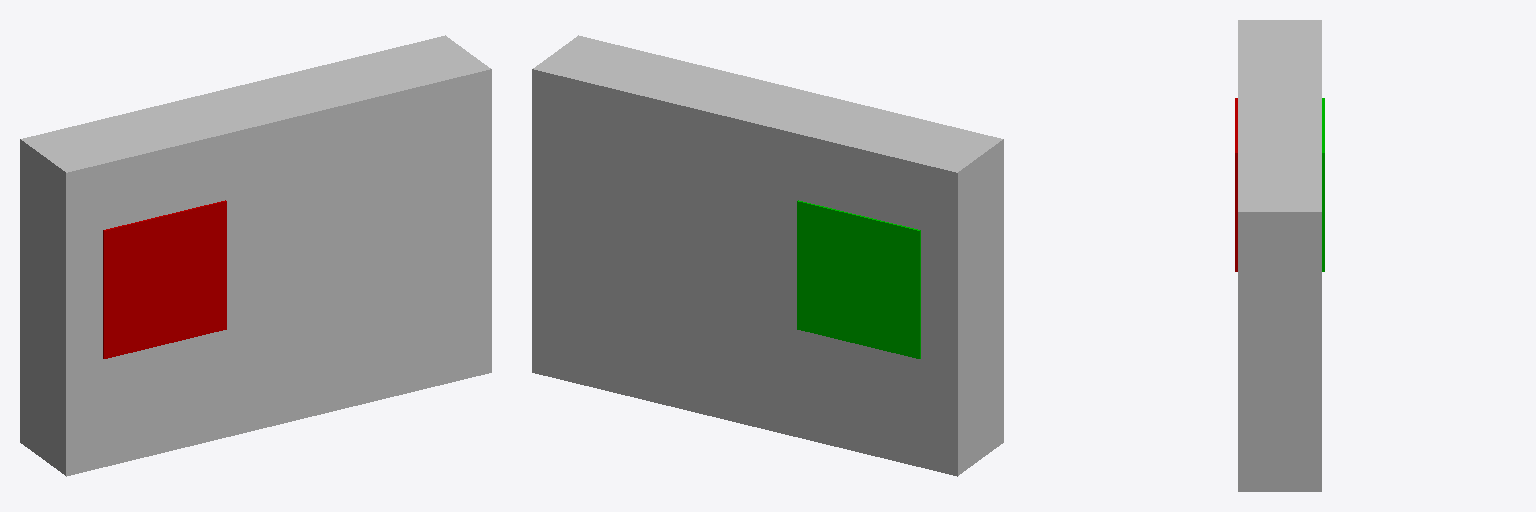
URDF robot description (cardboard_box):
<robot name="cardboard_box">
  <link name="base_link">
    <visual>
      <geometry>
        <box size="0.208 0.039 0.142"/>
      </geometry>
      <material name="white">
        <color rgba="0.8 0.8 0.8 1"/>
      </material>
    </visual>
    <collision>
      <geometry>
        <box size="0.208 0.039 0.142"/>
      </geometry>
    </collision>
    <inertial>
      <!--TODO: The object has not been weighed.-->
      <mass value="0.2"/>
      <inertia ixx="0.1"  ixy="0"  ixz="0" iyy="0.1" iyz="0" izz="0.1" />
    </inertial>
  </link>
  <joint name="tag36_11_00000_joint" type="fixed">
    <parent link="base_link"/>
    <child  link="tag36_11_00000"/>
    <origin xyz="-0.056 -0.0195 0.01" />
  </joint>
  <joint name="tag36_11_00002_joint" type="fixed">
    <parent link="base_link"/>
    <child  link="tag36_11_00002"/>
    <origin xyz="-0.056  0.0195 0.01" rpy="1.5707963267948966 0 3.141592653589793" />
  </joint>
  <link name="tag36_11_00000">
    <visual>
      <geometry>
        <box size="0.06 0.002 0.06"/>
      </geometry>
      <material name="red">
        <color rgba="0.8 0 0 1"/>
      </material>
    </visual>
  </link>
  <link name="tag36_11_00002">
    <visual>
      <geometry>
        <box size="0.06 0.06 0.002"/>
      </geometry>
      <material name="green">
        <color rgba="0 0.8 0 1"/>
      </material>
    </visual>
  </link>
</robot>

--- Facts derived from the render (not from the file) ---
3 views of the same robot in one strip: view 1: azimuth 30°, elevation 25°; view 2: azimuth 150°, elevation 25°; view 3: azimuth 270°, elevation 25° (orthographic).
Robot: cardboard_box — 3 links, 2 joints (2 fixed); root link base_link; default pose: all joints at 0.
Visible links, largest first — view 1: base_link, tag36_11_00000; view 2: base_link, tag36_11_00002; view 3: base_link.
Boxes of the visible links, left/top/right/bottom form: base_link: left=20, top=35, right=491, bottom=476; tag36_11_00000: left=103, top=200, right=226, bottom=358; base_link: left=532, top=35, right=1003, bottom=476; tag36_11_00002: left=797, top=200, right=920, bottom=358; base_link: left=1238, top=20, right=1321, bottom=491.
Bounding box of the posed robot: 0.208 × 0.041 × 0.142 m (x, y, z).
Geometry: primitives only (box / cylinder / sphere), no mesh files.
